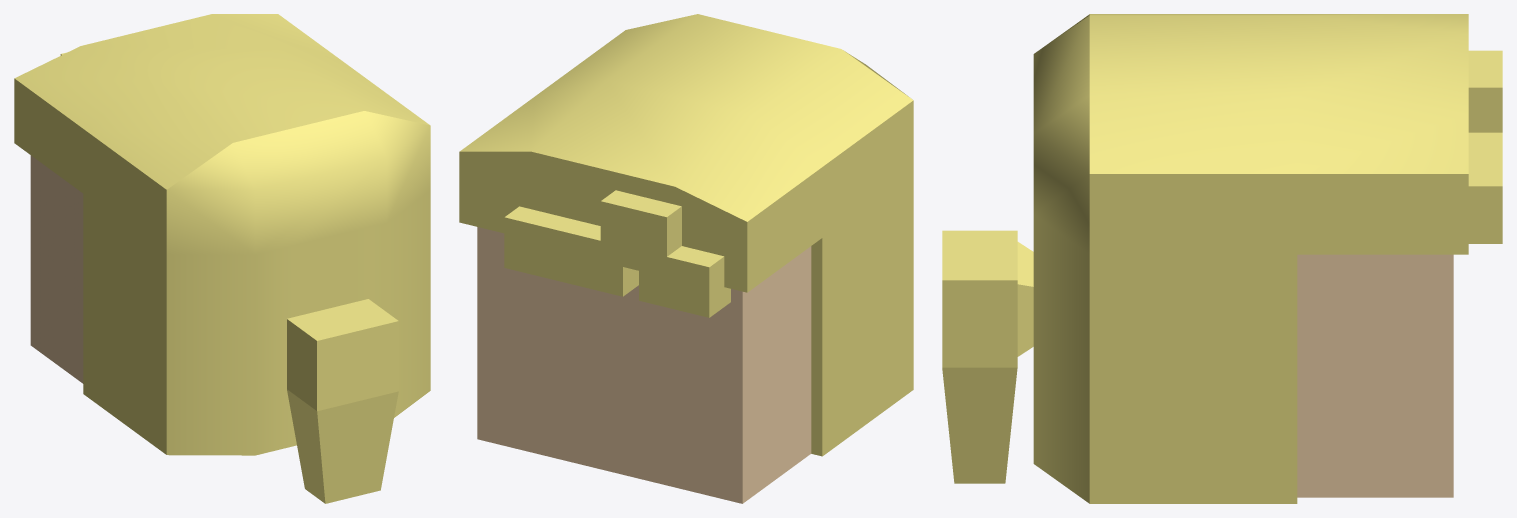
Rendered from Thor_Head.FBX.
3 views of the same model, side by side, from view 1: azimuth 30°, elevation 25°; view 2: azimuth 150°, elevation 25°; view 3: azimuth 270°, elevation 25° (orthographic). The views are drawn at different scales.
Parts seen in each view (by area): view 1: Head_Thor; view 2: Head_Thor; view 3: Head_Thor.
Part boxes in pixels (<box>): Head_Thor: <box>14,14,430,503</box>; Head_Thor: <box>459,14,913,503</box>; Head_Thor: <box>942,14,1502,503</box>.
Size of the model in its own units: 13.82 by 16.54 by 20.45.
1 material, 1 textured.
